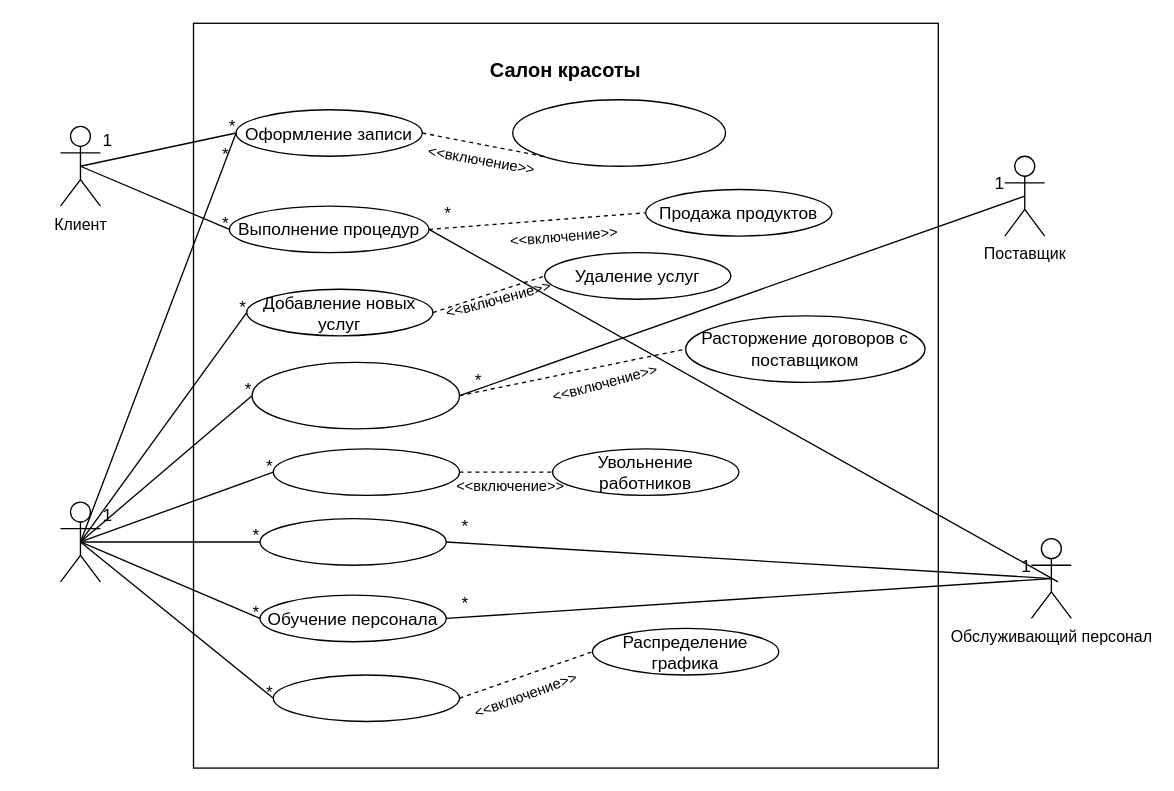
The diagram is 1174 pixels wide and 791 high, and some of its shapes have lost their labels. Each missing label, with the centre of its shape:
Администратор: point 79,541
Заказ оборудования и инструментов: point 355,395
Наём работников: point 352,541
Перенос и удаление записи: point 618,132
Составление отчётов: point 366,698
Составление рекламы: point 366,471
